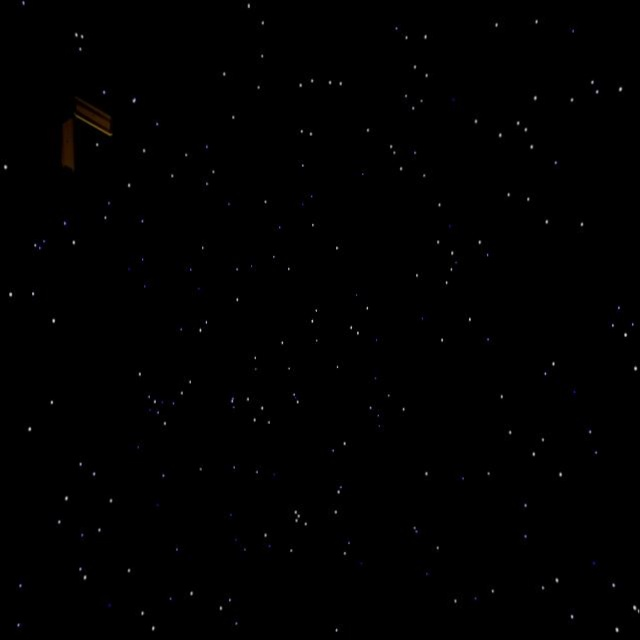satellite: (14, 57, 113, 185)
